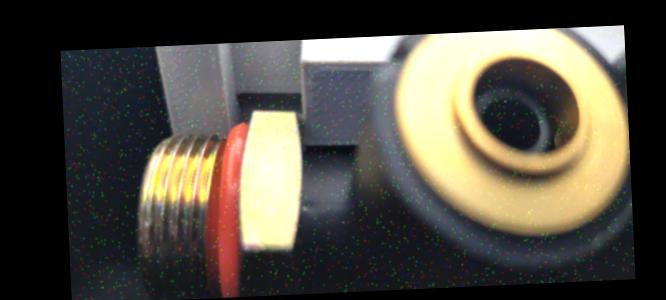bump: (384, 42, 410, 70)
joint line: (320, 196, 351, 209)
white mark: (299, 202, 318, 218)
